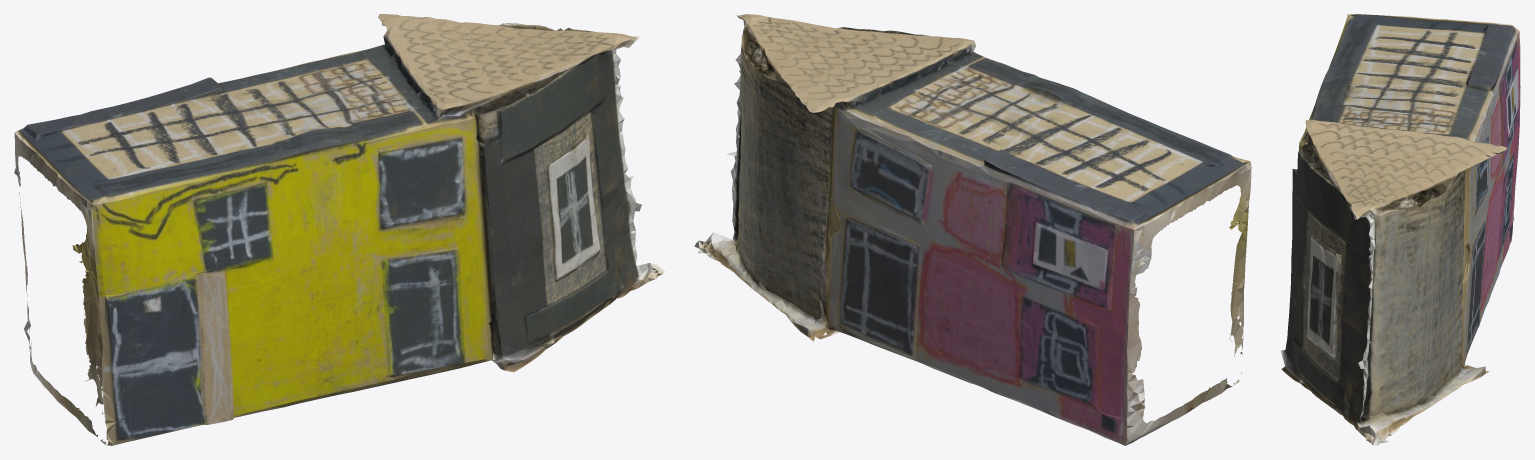
The model's file is m20_5K_1024tex.glb.
3 renders of one model, left to right at view 1: azimuth 30°, elevation 25°; view 2: azimuth 150°, elevation 25°; view 3: azimuth 270°, elevation 25°, orthographic. The views are drawn at different scales.
Bounding box in the file's own units: 9.83 × 4.5 × 4.08.
1 material, 1 textured.
